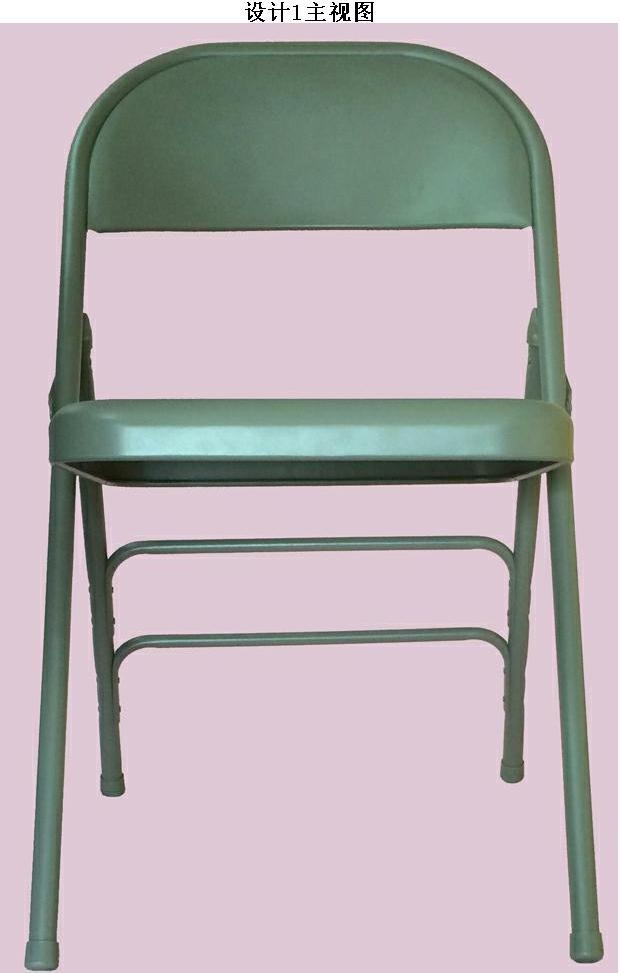obstacle: (24, 42, 602, 969)
